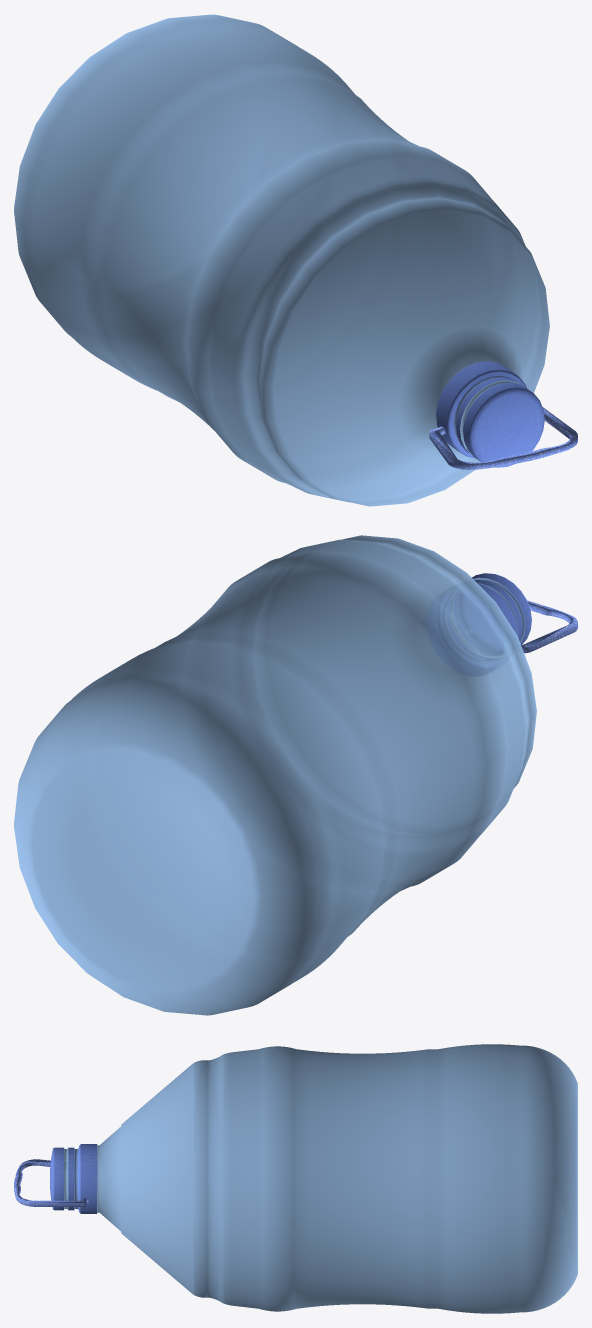
File: model_scale.obj
3 renders of one model, top to bottom at view 1: azimuth 30°, elevation 25°; view 2: azimuth 150°, elevation 25°; view 3: azimuth 270°, elevation 25°, orthographic. The views are drawn at different scales.
Parts seen in each view (by area): view 1: mesh1_mesh1-geometry, mesh3_mesh3-geometry, mesh4_mesh4-geometry, mesh5_mesh5-geometry; view 2: mesh1_mesh1-geometry, mesh3_mesh3-geometry, mesh4_mesh4-geometry, mesh5_mesh5-geometry, mesh8_mesh8-geometry, mesh2_mesh2-geometry; view 3: mesh1_mesh1-geometry, mesh4_mesh4-geometry, mesh5_mesh5-geometry, mesh3_mesh3-geometry, mesh2_mesh2-geometry.
Boxes of the visible parts, bbox=[...] form: mesh1_mesh1-geometry: bbox=[14, 14, 549, 506]; mesh3_mesh3-geometry: bbox=[463, 382, 544, 467]; mesh4_mesh4-geometry: bbox=[436, 361, 526, 458]; mesh5_mesh5-geometry: bbox=[429, 407, 577, 469]; mesh1_mesh1-geometry: bbox=[14, 535, 536, 1015]; mesh3_mesh3-geometry: bbox=[453, 573, 531, 654]; mesh4_mesh4-geometry: bbox=[427, 583, 517, 675]; mesh5_mesh5-geometry: bbox=[434, 600, 577, 653]; mesh8_mesh8-geometry: bbox=[450, 577, 525, 657]; mesh2_mesh2-geometry: bbox=[447, 580, 522, 659]; mesh1_mesh1-geometry: bbox=[97, 1044, 577, 1313]; mesh4_mesh4-geometry: bbox=[78, 1144, 96, 1213]; mesh5_mesh5-geometry: bbox=[14, 1159, 88, 1206]; mesh3_mesh3-geometry: bbox=[50, 1147, 63, 1210]; mesh2_mesh2-geometry: bbox=[68, 1147, 74, 1210].
Bounding box in the file's own units: 0.1183 × 0.1183 × 0.2471.
